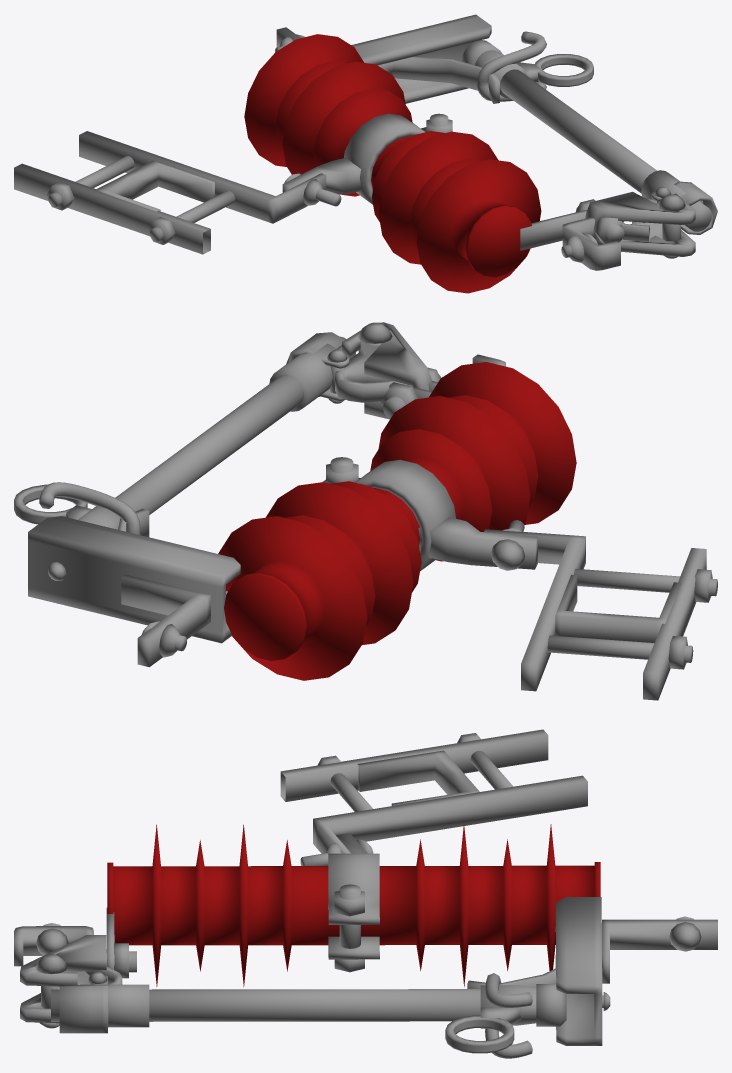
3 renders of one model, top to bottom at view 1: azimuth 30°, elevation 25°; view 2: azimuth 150°, elevation 25°; view 3: azimuth 270°, elevation 25°, orthographic. The views are drawn at different scales.
Visible parts, largest first — view 1: 熔断器; view 2: 熔断器; view 3: 熔断器.
Part boxes in pixels (bbox=[...]): 熔断器: bbox=[14, 14, 717, 293]; 熔断器: bbox=[14, 322, 717, 700]; 熔断器: bbox=[14, 729, 717, 1058].
Size of the model in its own units: 2.39 by 0.5371 by 2.31.
